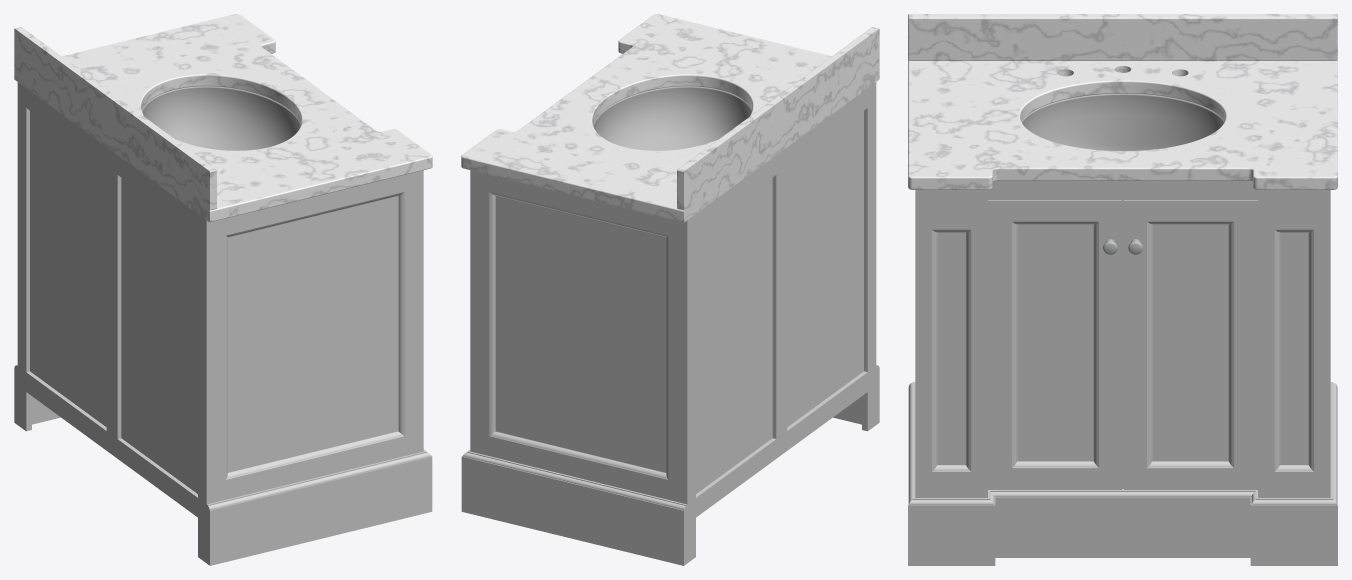
Rendered from Porter - Warwick Single.opt.glb.
3 views of the same model, side by side, from view 1: azimuth 30°, elevation 25°; view 2: azimuth 150°, elevation 25°; view 3: azimuth 270°, elevation 25° (orthographic). The views are drawn at different scales.
Visible parts, largest first — view 1: 2 #1, 1 #1, 6 #1, 5 #1; view 2: 2 #1, 1 #1, 6 #1, 5 #1; view 3: 2 #1, 1 #1, 6 #1, 5 #1.
Part boxes in pixels (x1,y1,x2,y2): 2 #1: (14, 82, 432, 565); 1 #1: (14, 14, 432, 222); 6 #1: (14, 27, 216, 210); 5 #1: (142, 86, 300, 150); 2 #1: (461, 82, 879, 565); 1 #1: (461, 14, 879, 222); 6 #1: (677, 27, 879, 210); 5 #1: (593, 86, 751, 150); 2 #1: (908, 180, 1337, 565); 1 #1: (908, 60, 1337, 189); 6 #1: (908, 14, 1337, 60); 5 #1: (1021, 93, 1224, 150).
Size of the model in its own units: 0.595 by 1 by 0.9.
Materials: 5 (2 with a texture image).
